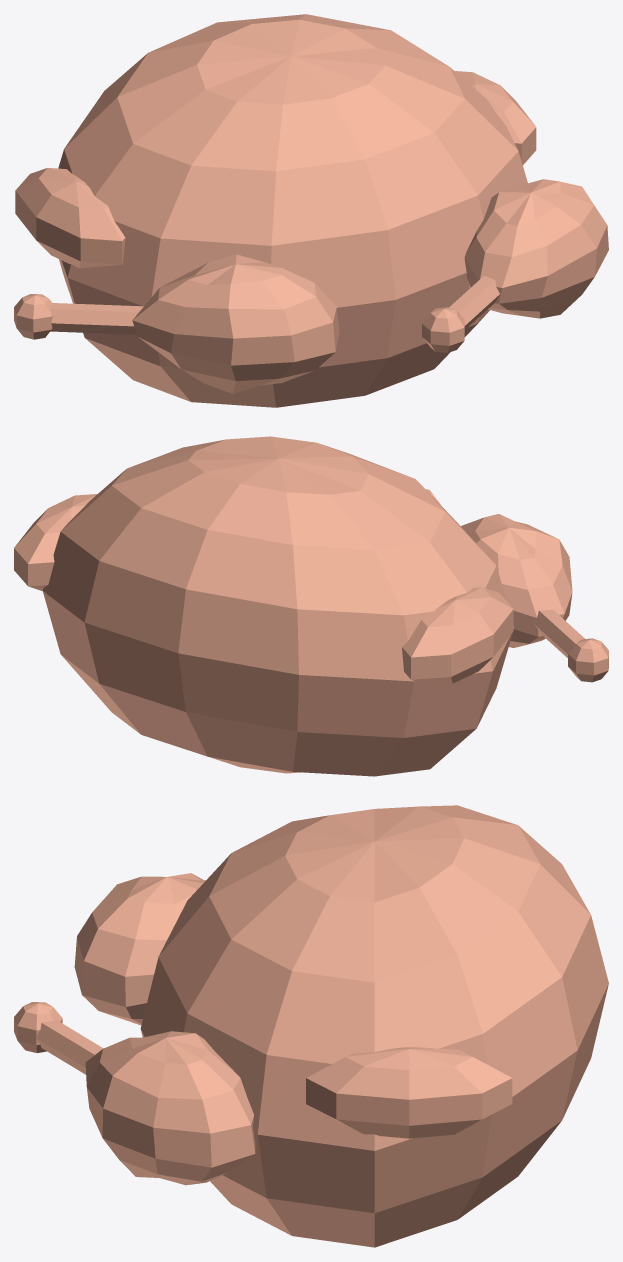
File: chicken_whole.glb
The picture shows the model from 3 angles, top to bottom: view 1: azimuth 30°, elevation 25°; view 2: azimuth 150°, elevation 25°; view 3: azimuth 270°, elevation 25°; orthographic projection. The views are drawn at different scales.
Parts seen in each view (by area): view 1: chicken_whole_0; view 2: chicken_whole_0; view 3: chicken_whole_0.
Boxes of the visible parts, x1,y1,x2,y2 form: chicken_whole_0: (14,14,608,407); chicken_whole_0: (14,436,608,776); chicken_whole_0: (14,805,608,1247).
Size of the model in its own units: 0.4124 by 0.212 by 0.3455.
